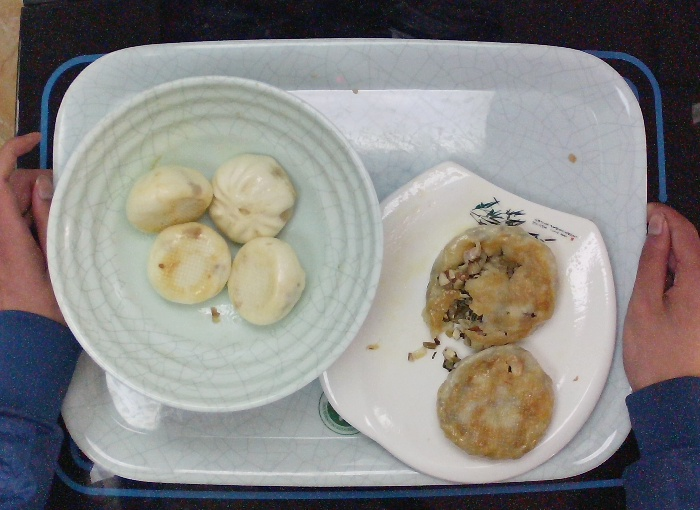JYsf-Da_Tang_Wan: (40, 71, 388, 421)
JYsf-Mian_Pan: (307, 156, 624, 488)
